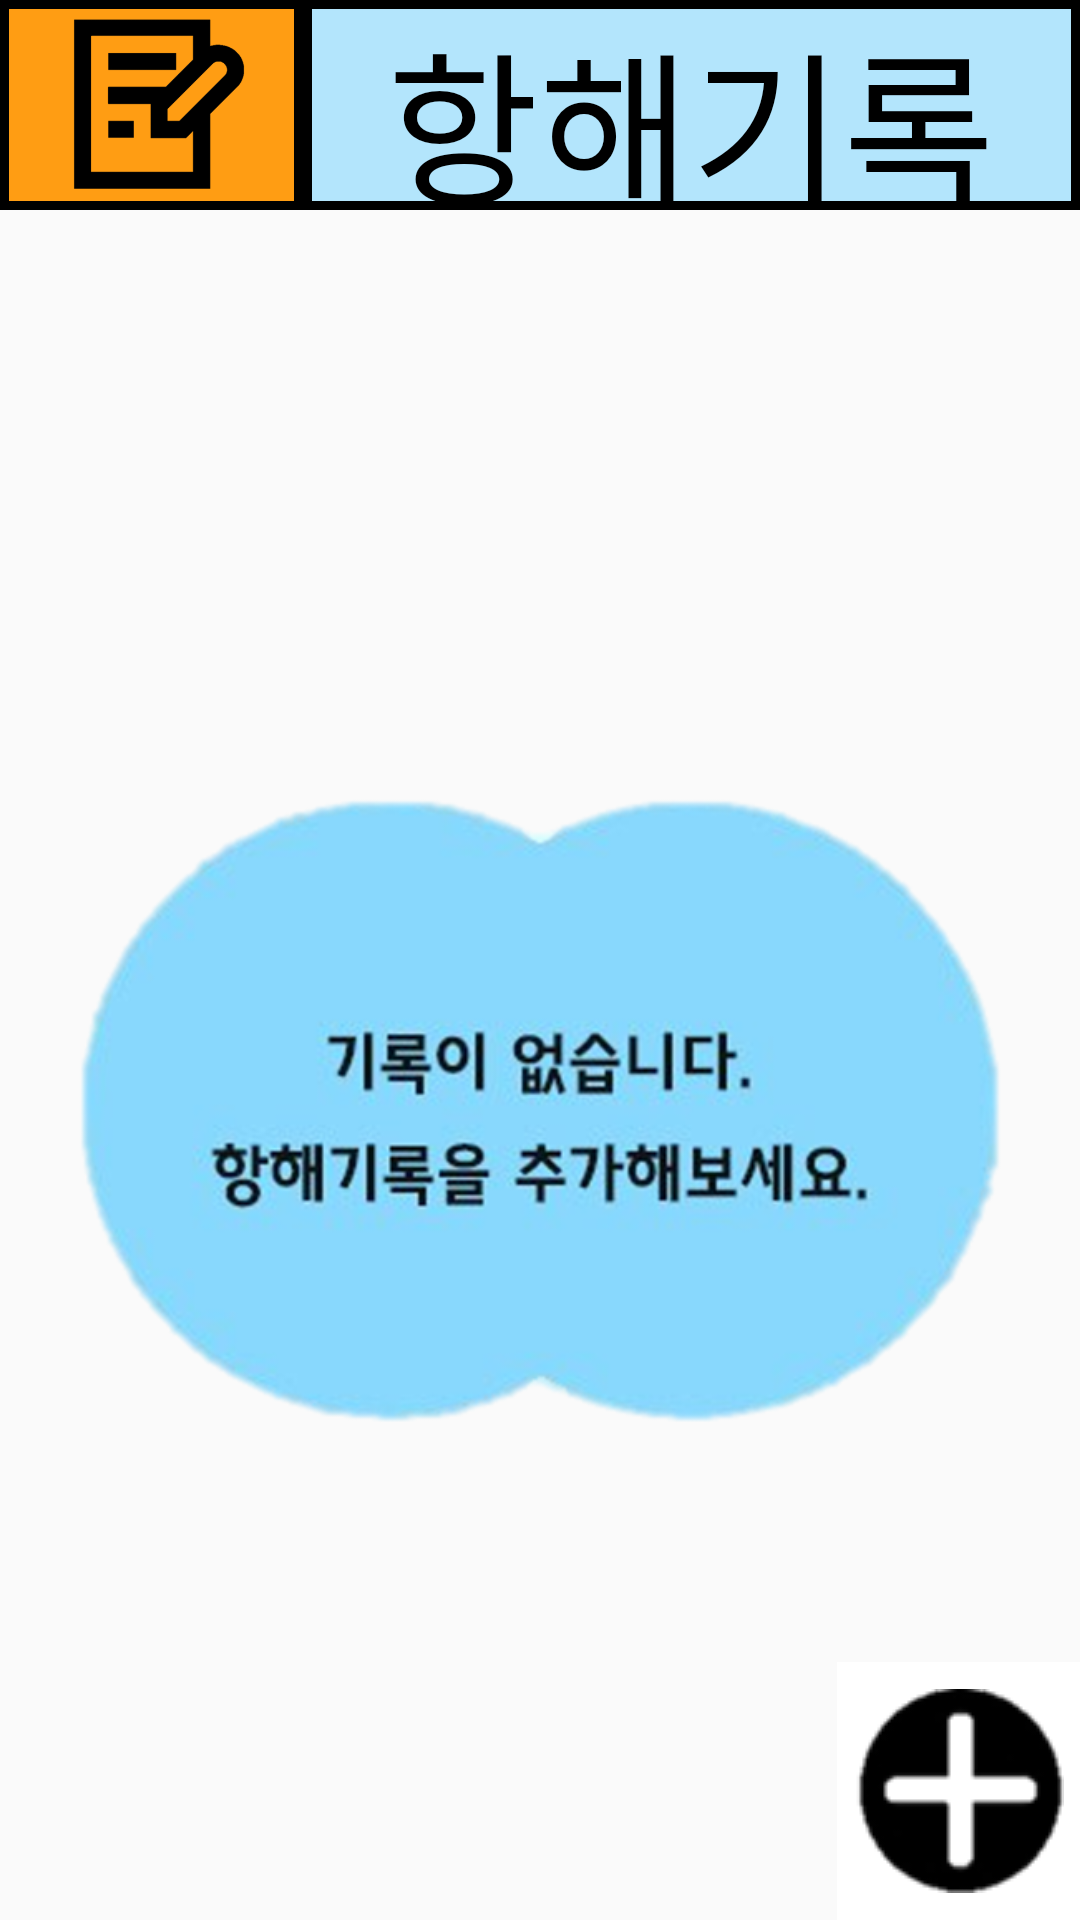

Named icons in this screenshot (1080*1920) and their bounding boxes, (x1, y1, x2, y2):
diaryimage: (9, 9, 294, 201)
plus: (859, 1689, 1064, 1893)
